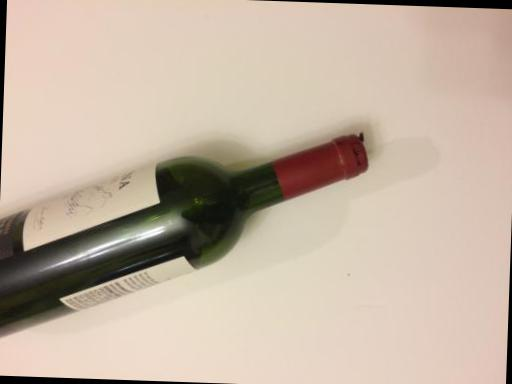glass: (0, 97, 397, 366)
